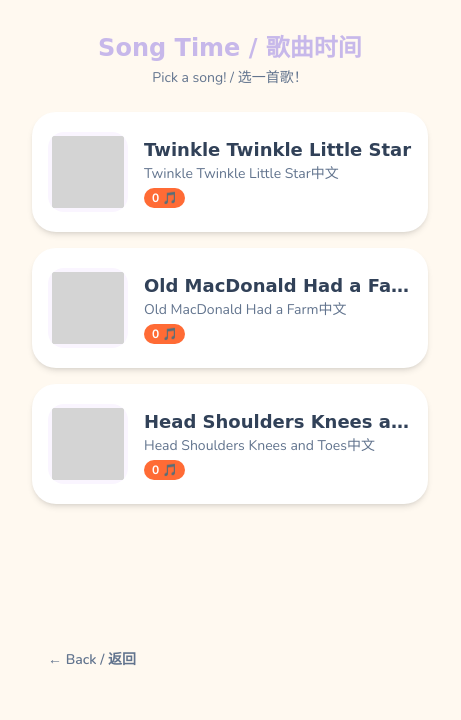
Test: SongTime › audio error: loaderror event on Howl shows friendly error UI (no crash)
Click the button with test id "song-tile" at (230, 172), box [32, 112, 428, 232]
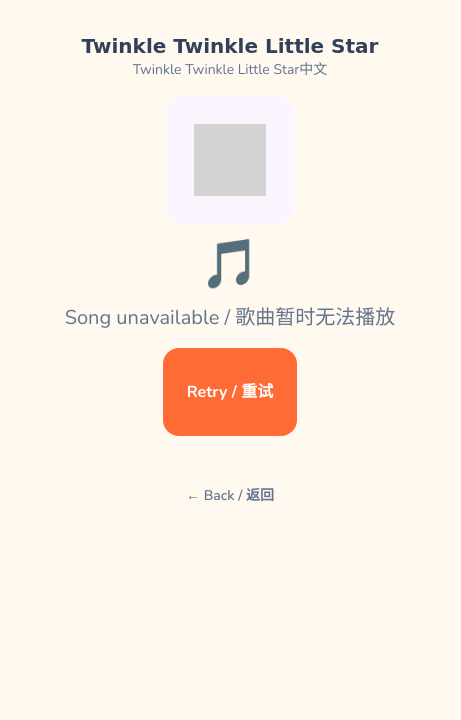
Check: the element with test id "song-player" is shown
Check: the text "Song unavailable / 歌曲暂时无法播放" is shown, box [65, 304, 395, 332]
Check: the button with test id "retry-btn" is shown, box [163, 348, 297, 436]
